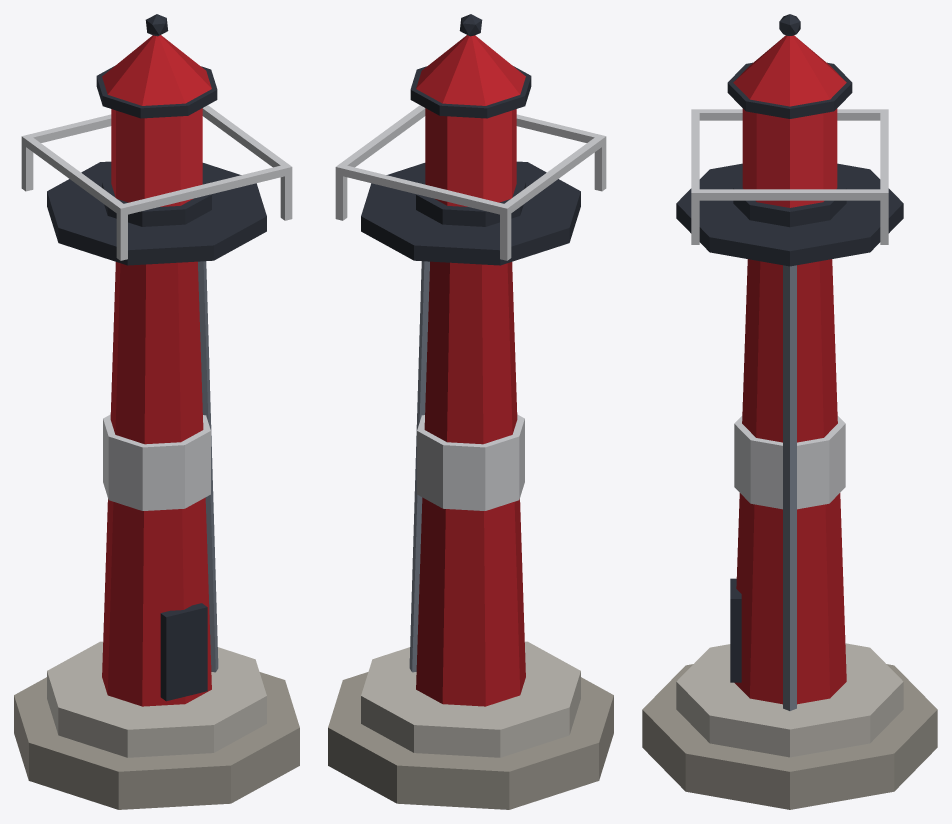
The model's file is light_red.glb.
3 views of the same model, side by side, from view 1: azimuth 30°, elevation 25°; view 2: azimuth 150°, elevation 25°; view 3: azimuth 270°, elevation 25° (orthographic).
Visible parts, largest first — view 1: pole, lamp; view 2: pole, lamp; view 3: pole, lamp.
Boxes of the visible parts, x1=… form: pole: x1=14, y1=105, x2=299, y2=809; lamp: x1=96, y1=14, x2=217, y2=226; pole: x1=328, y1=105, x2=613, y2=809; lamp: x1=410, y1=14, x2=531, y2=226; pole: x1=642, y1=109, x2=937, y2=809; lamp: x1=727, y1=14, x2=852, y2=227.
Size of the model in its own units: 2.11 by 5.77 by 2.11.
